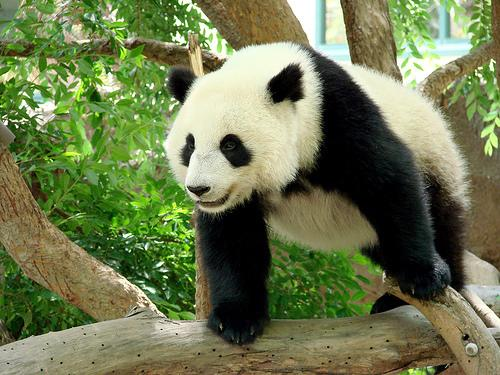panda: (164, 42, 469, 343)
